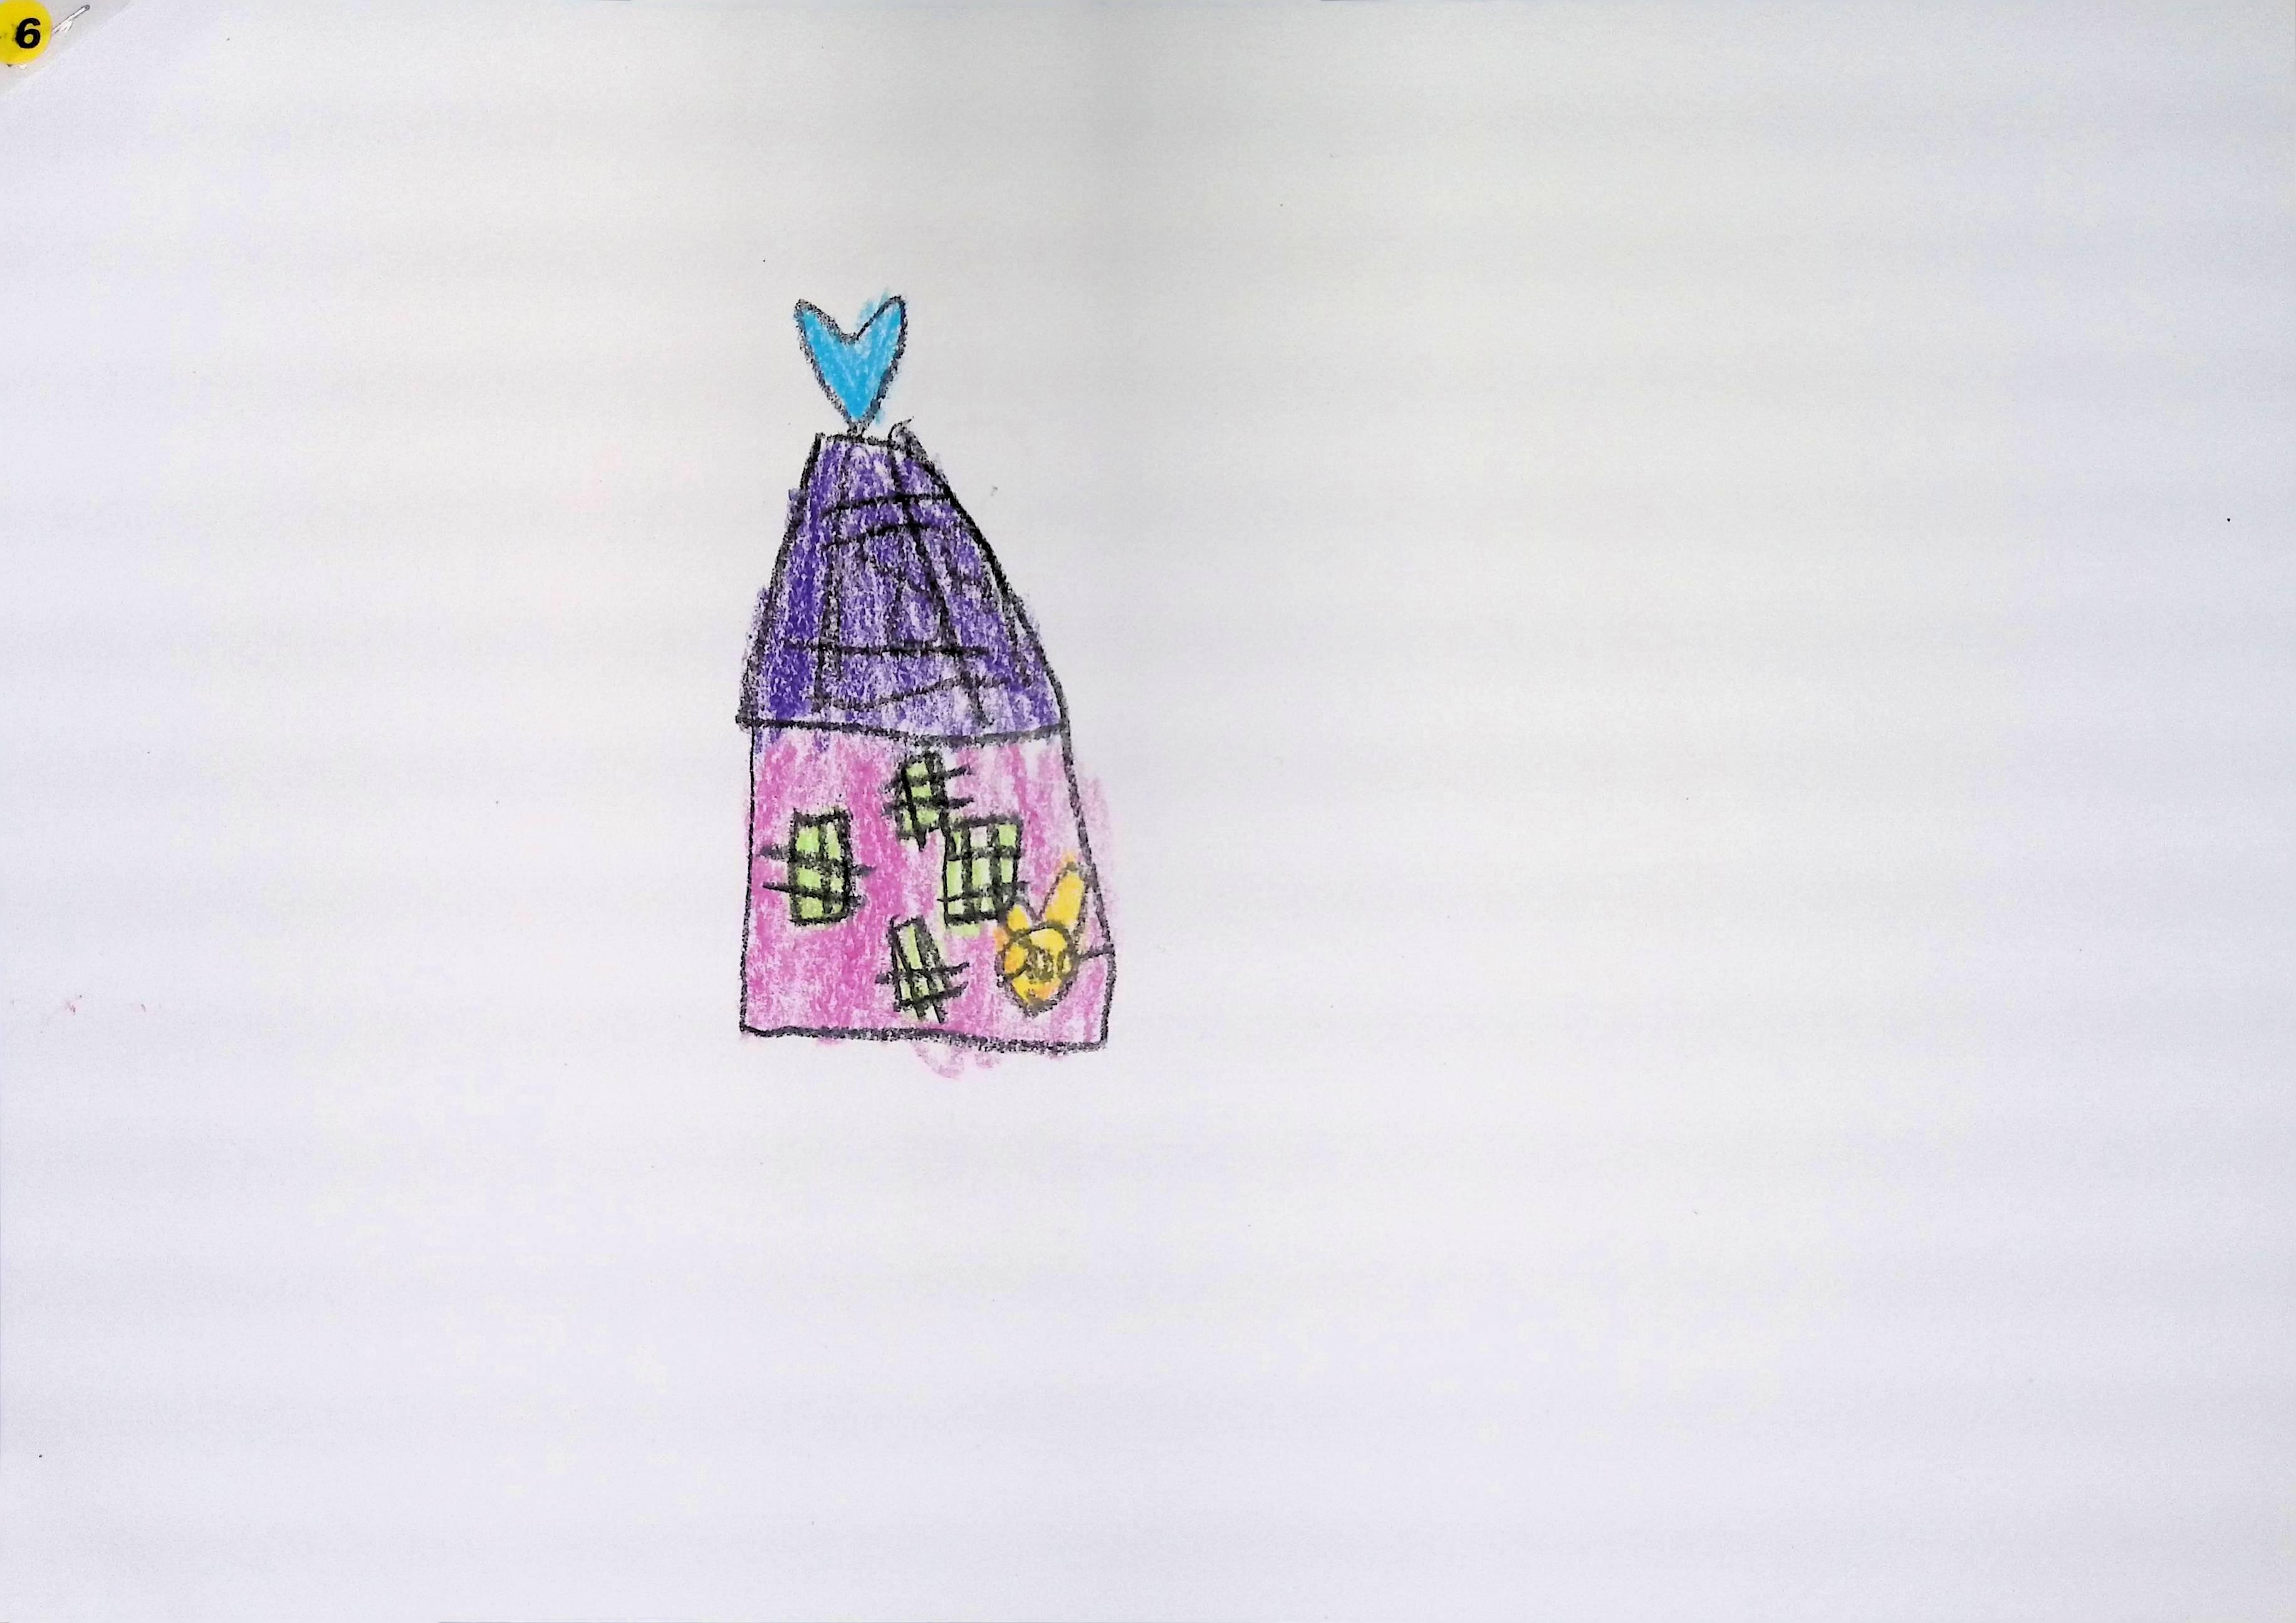house: (738, 423, 1116, 1052)
roof: (736, 422, 1065, 739)
wall: (740, 703, 1114, 1050)
window: (764, 808, 861, 926), (877, 917, 966, 1021), (942, 815, 1022, 924), (887, 748, 970, 848)
